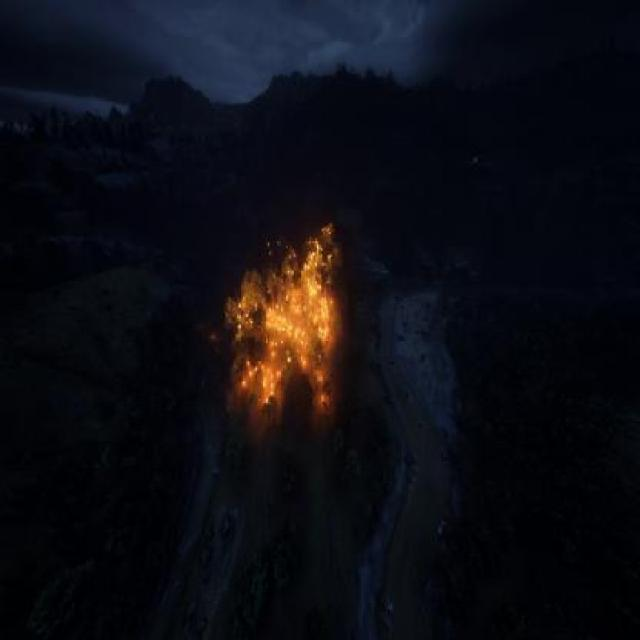Fire: (198, 200, 368, 437)
